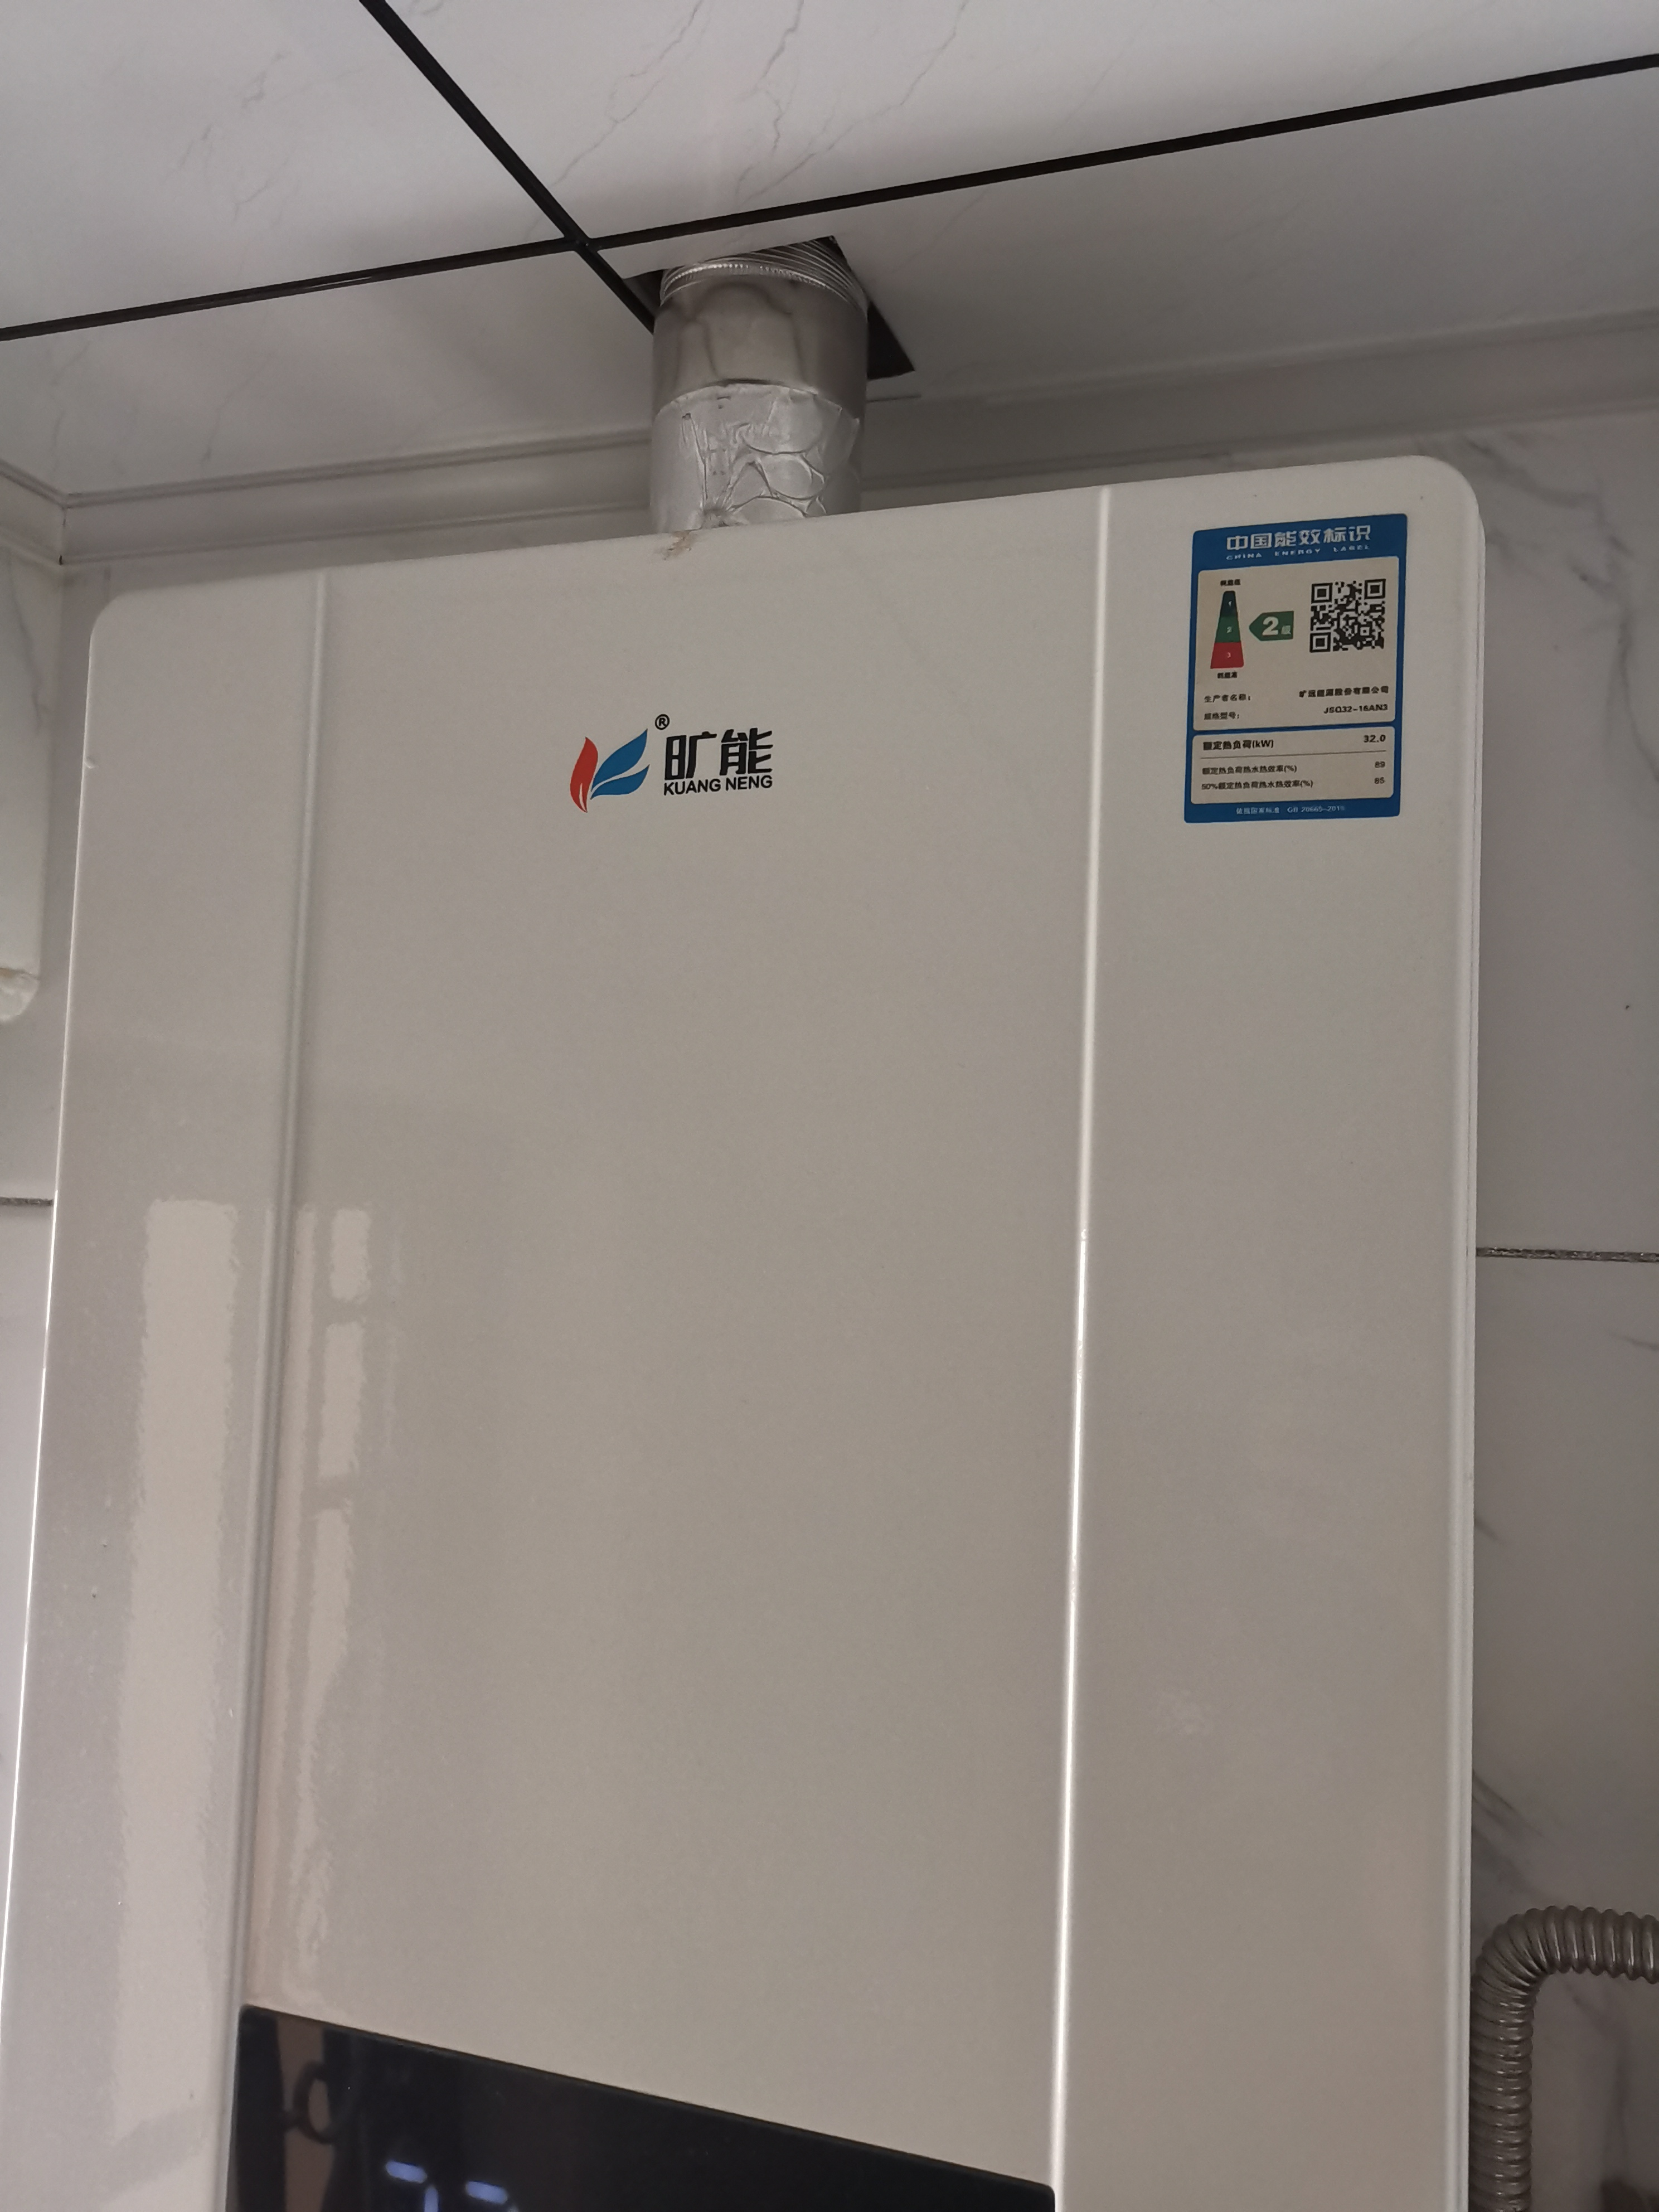loudou: (540, 704, 823, 824)
